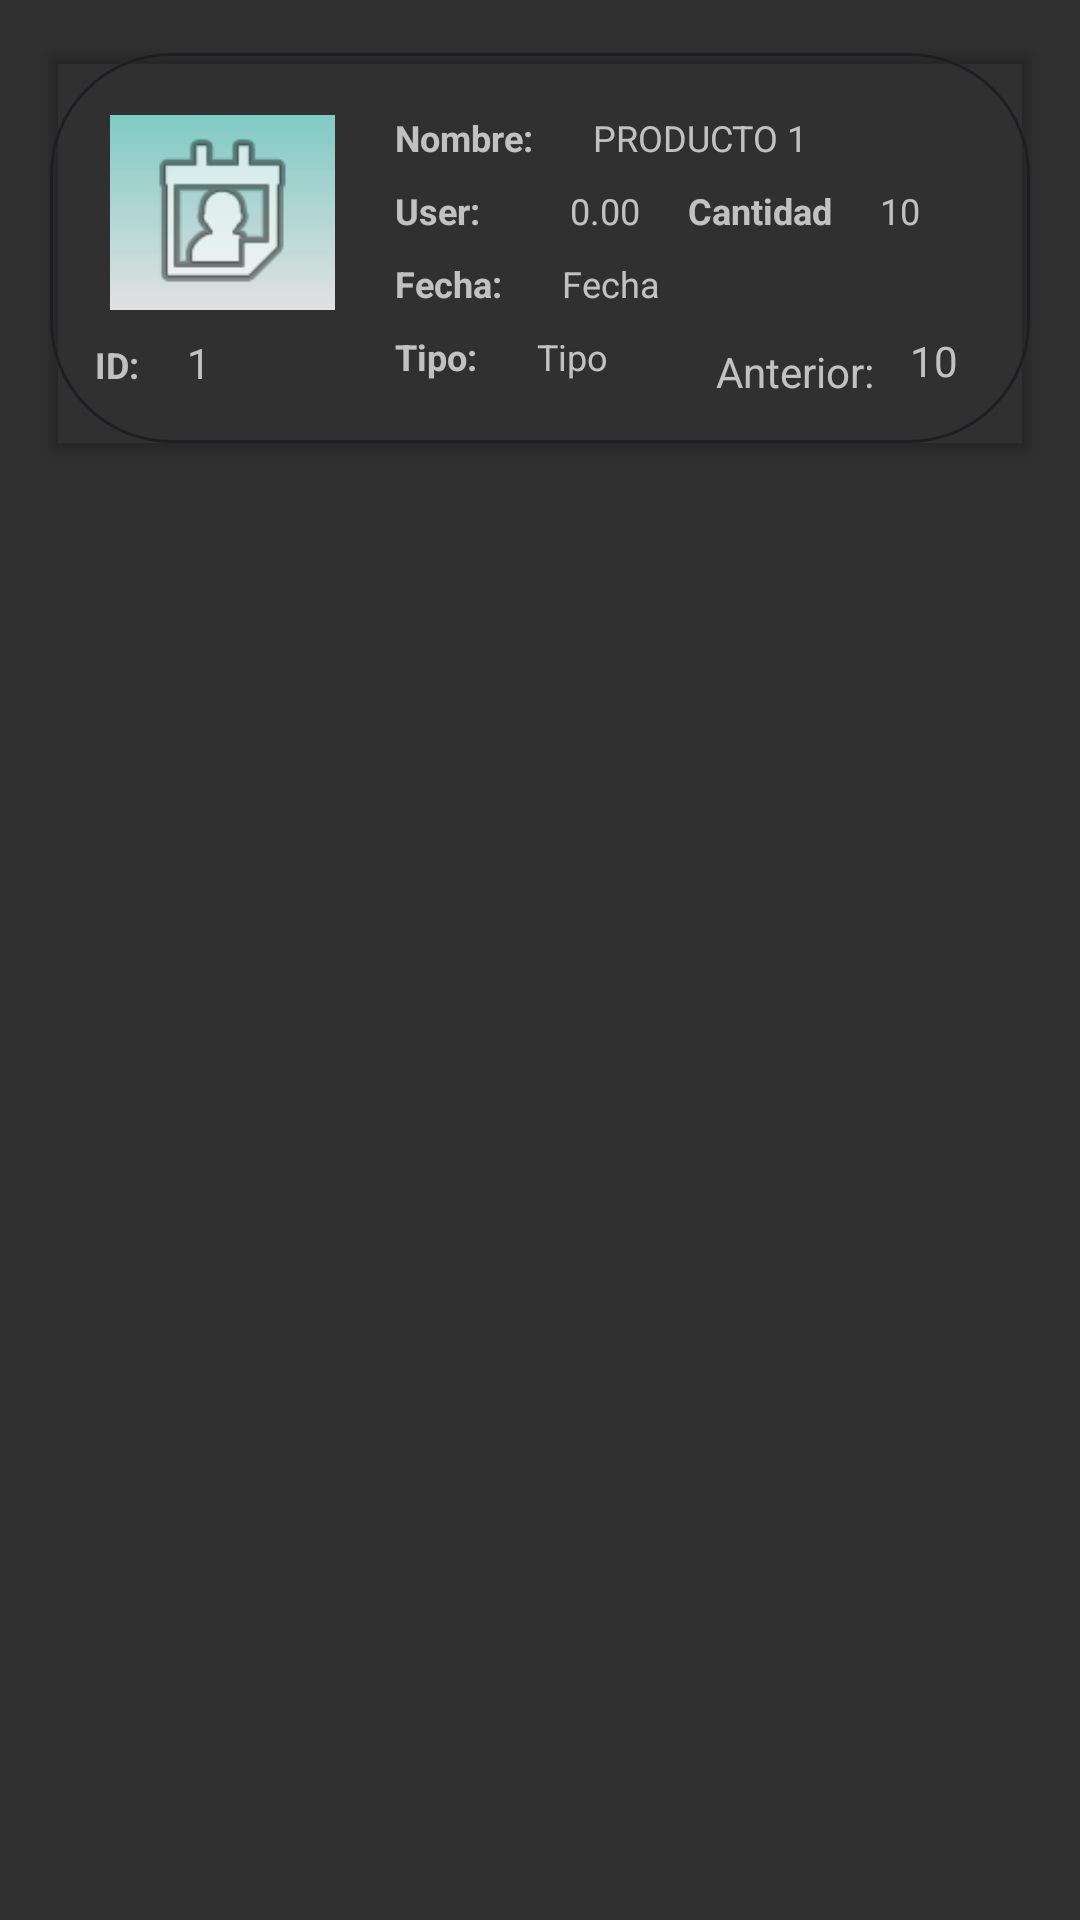

Where icons sit on this 1080w x 1920h app screen, as (x1, y1, x2, y2):
calendar: (110, 115, 335, 310)
